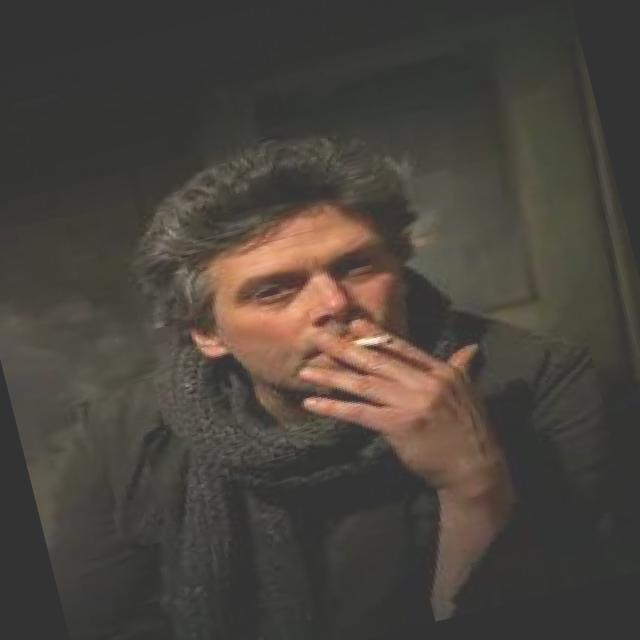smoke: (328, 321, 402, 358)
